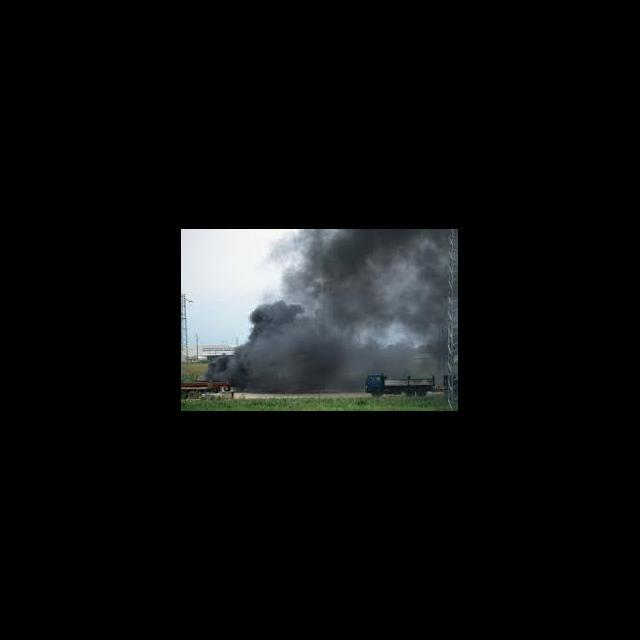Smoke: (275, 230, 444, 338), (253, 306, 356, 384), (215, 357, 252, 380)
